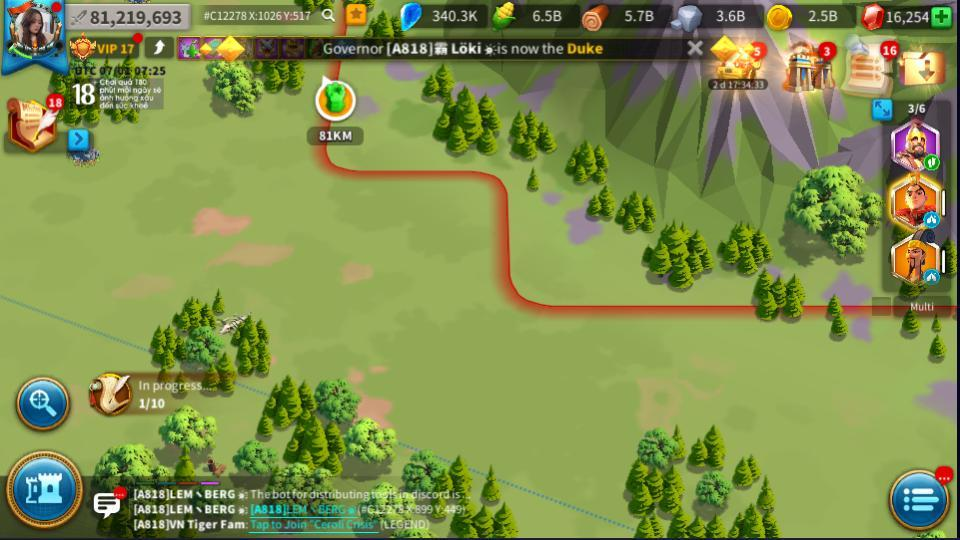march_idle: (923, 270, 939, 282), (923, 213, 938, 225)
march_marching: (923, 156, 937, 169)
